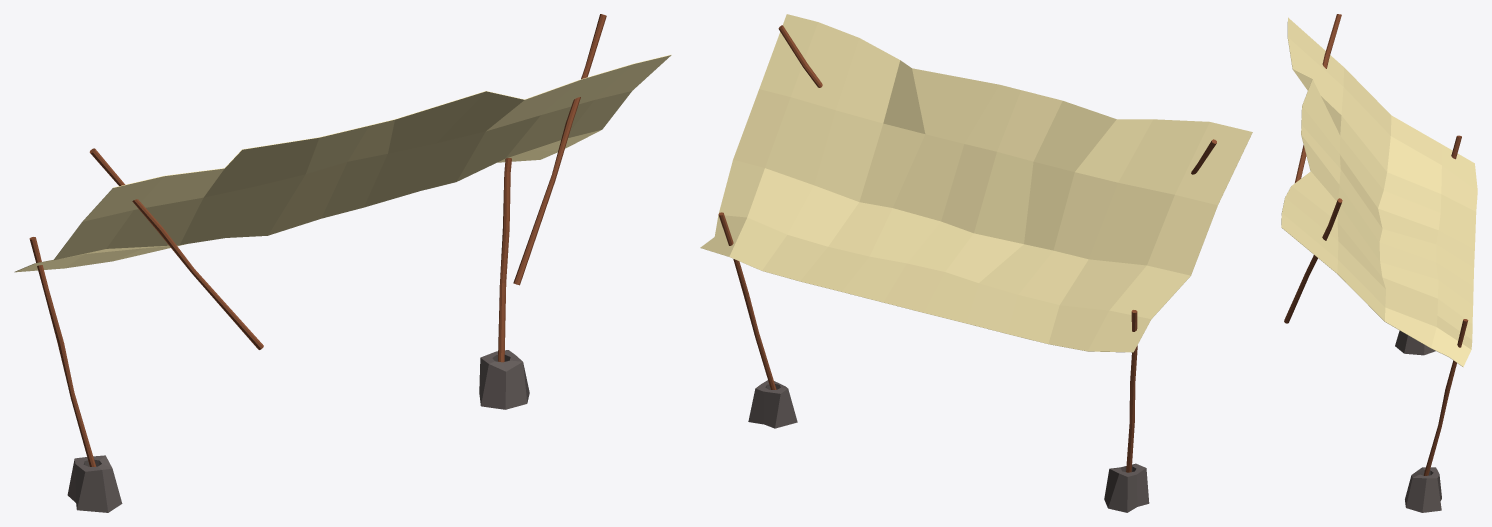
File: Big Shelter.fbx
3 views of the same model, side by side, from view 1: azimuth 30°, elevation 25°; view 2: azimuth 150°, elevation 25°; view 3: azimuth 270°, elevation 25° (orthographic). The views are drawn at different scales.
Parts seen in each view (by area): view 1: Big Shelter; view 2: Big Shelter; view 3: Big Shelter.
Boxes of the visible parts, <box> form: Big Shelter: <box>14,14,671,512</box>; Big Shelter: <box>700,14,1252,512</box>; Big Shelter: <box>1281,14,1477,512</box>.
Size of the model in its own units: 709 by 505 by 280.
